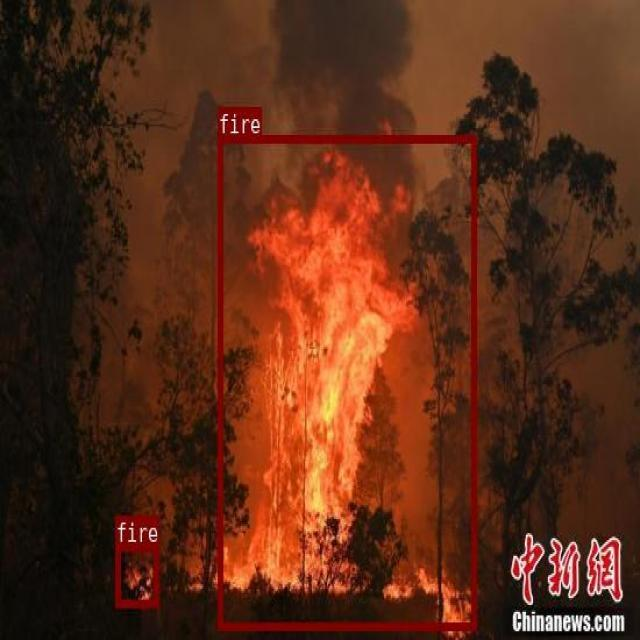fire: (217, 135, 475, 628), (115, 542, 158, 605)
